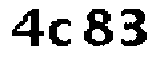3: (122, 6, 149, 49)
4: (9, 2, 47, 52)
8: (82, 5, 116, 49)
c: (49, 16, 78, 51)
